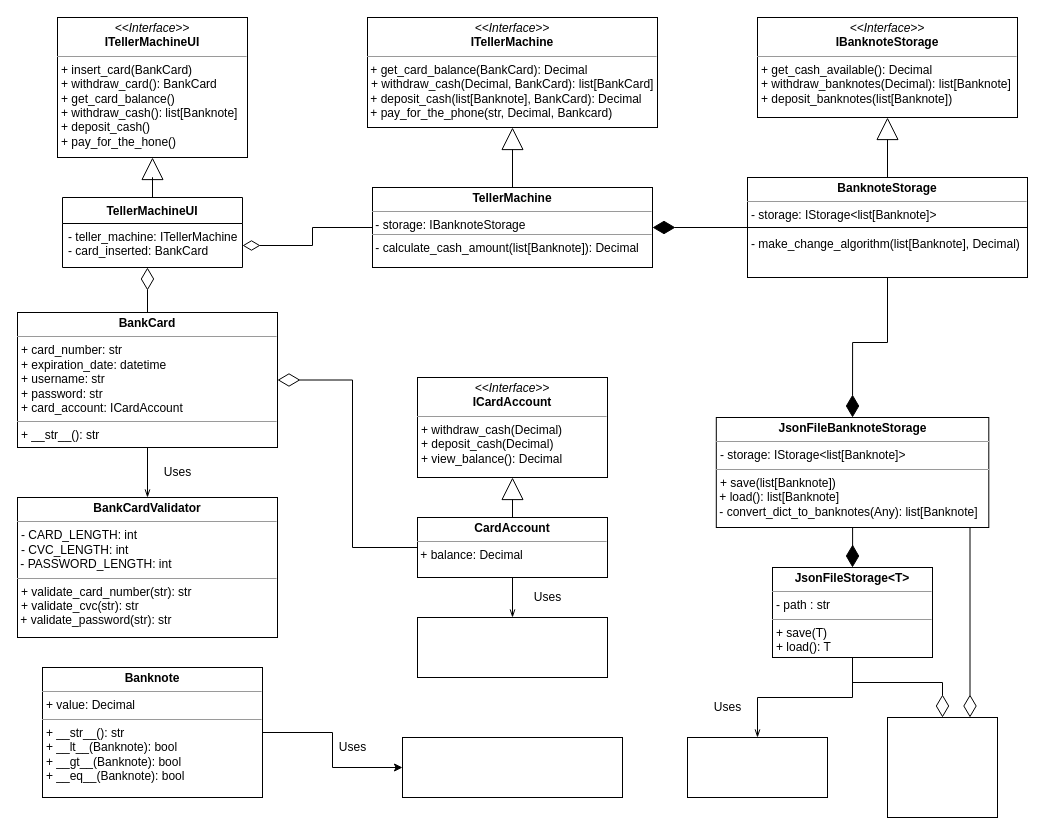
Some shapes in this 1045 by 835 pixel diagram are drawn without their labels. The shapes that lost their labels are listed below. From the top down, each one's centre as x and y in pixels, then its label:
At [512,647]: "AmountValidator + validate_amount(Decimal)".
At [512,767]: "BanknoteValidator + validate_value(Decimal)".
At [757,767]: "JsonEncoder + default(Any): str".
At [942,767]: "<<Interface>> IStorage<T> + save(T) + load(): T".
